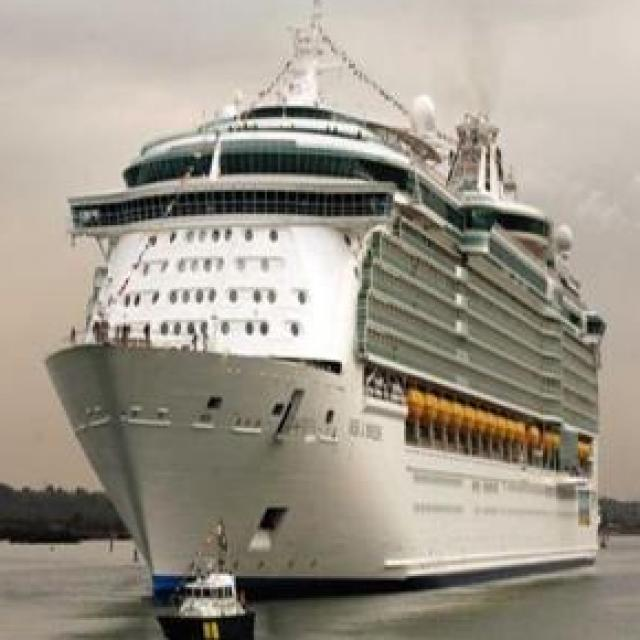houseboat: (154, 521, 274, 640)
passenger ship: (45, 30, 614, 595)
